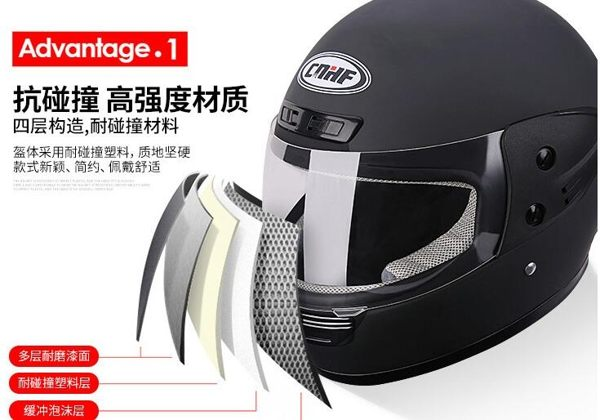helmet: (239, 2, 584, 365)
